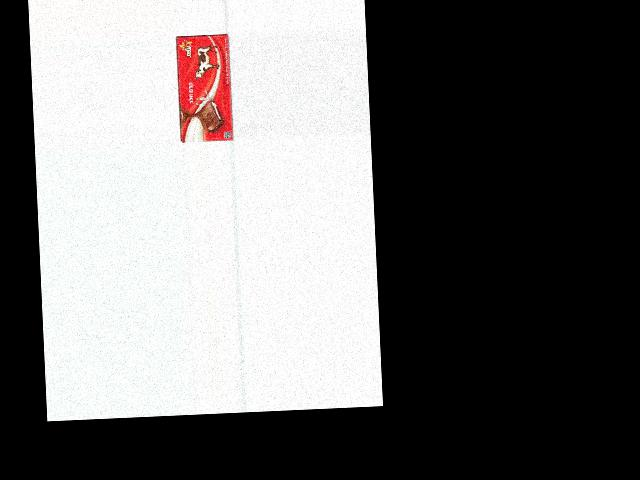chocolate: (175, 32, 234, 142)
